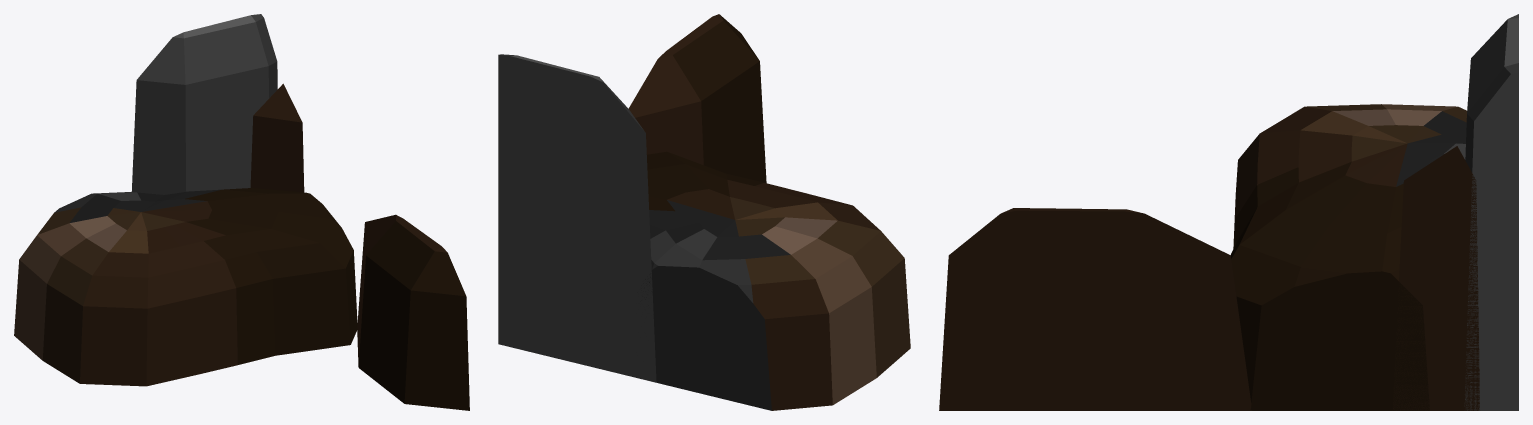
The model's file is newshr-267.glb.
The picture shows the model from 3 angles, left to right: view 1: azimuth 30°, elevation 25°; view 2: azimuth 150°, elevation 25°; view 3: azimuth 270°, elevation 25°; orthographic projection. The views are drawn at different scales.
Visible parts, largest first — view 1: newshr-267; view 2: newshr-267; view 3: newshr-267.
Boxes of the visible parts, <box> form: newshr-267: <box>14,14,469,410</box>; newshr-267: <box>498,14,910,410</box>; newshr-267: <box>939,14,1518,410</box>.
Bounding box in the file's own units: 0.7901 × 0.6891 × 1.06.
